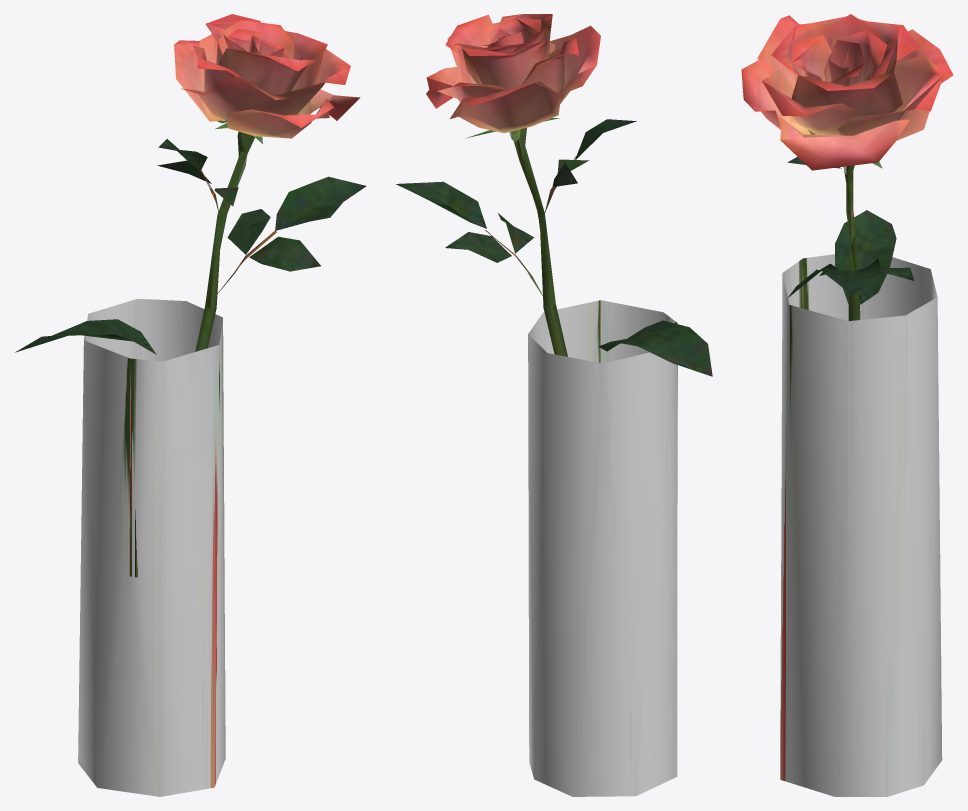
File: Vase0020.obj
3 views of the same model, side by side, from view 1: azimuth 30°, elevation 25°; view 2: azimuth 150°, elevation 25°; view 3: azimuth 270°, elevation 25° (orthographic). The views are drawn at different scales.
Bounding box in the file's own units: 0.186 × 0.381 × 0.093.
Materials: 1 (1 with a texture image).
